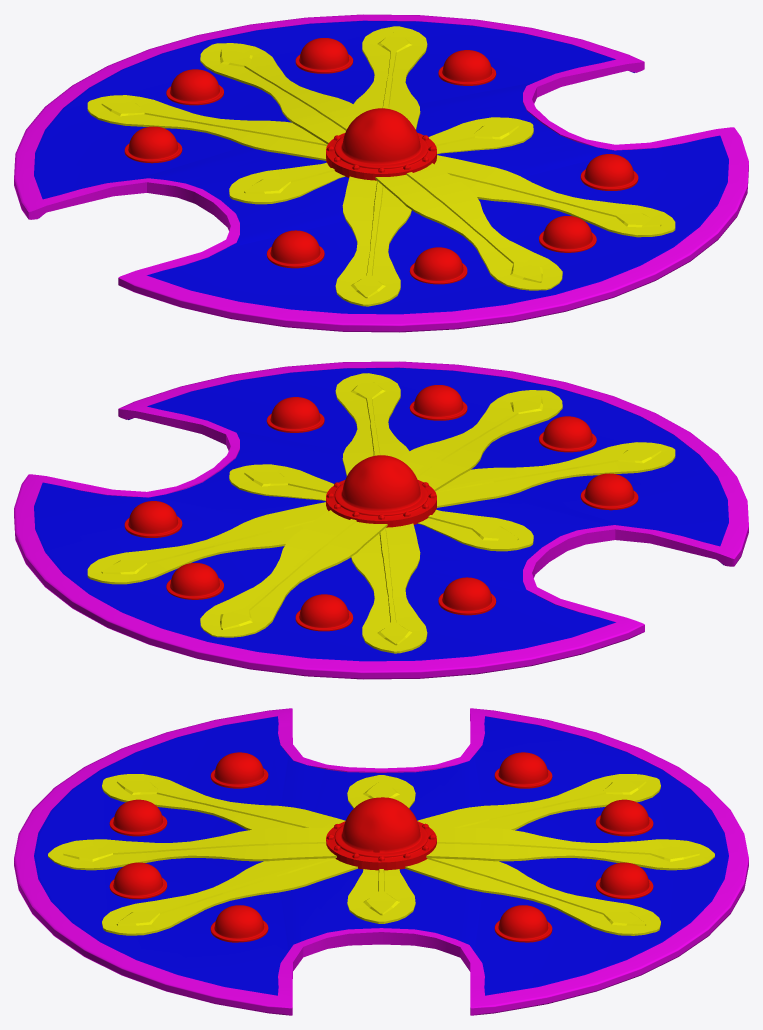
The model's file is Shield_tryout.fbx.
The picture shows the model from 3 angles, top to bottom: view 1: azimuth 30°, elevation 25°; view 2: azimuth 150°, elevation 25°; view 3: azimuth 270°, elevation 25°; orthographic projection.
Parts seen in each view (by area): view 1: Greek_Shield_colorI_D_3; view 2: Greek_Shield_colorI_D_3; view 3: Greek_Shield_colorI_D_3.
Boxes of the visible parts, box(x1,y1,x2,y2) form: Greek_Shield_colorI_D_3: box(14, 14, 748, 332); Greek_Shield_colorI_D_3: box(14, 361, 748, 679); Greek_Shield_colorI_D_3: box(14, 708, 748, 1015).
Bounding box in the file's own units: 84.44 × 16.92 × 87.35.
